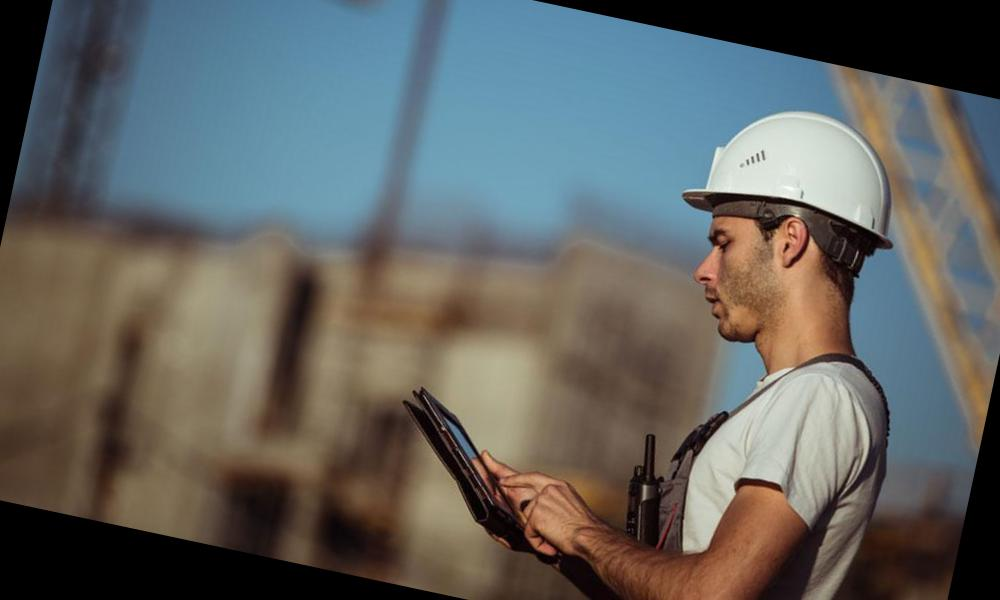Helmet: (674, 85, 938, 272)
